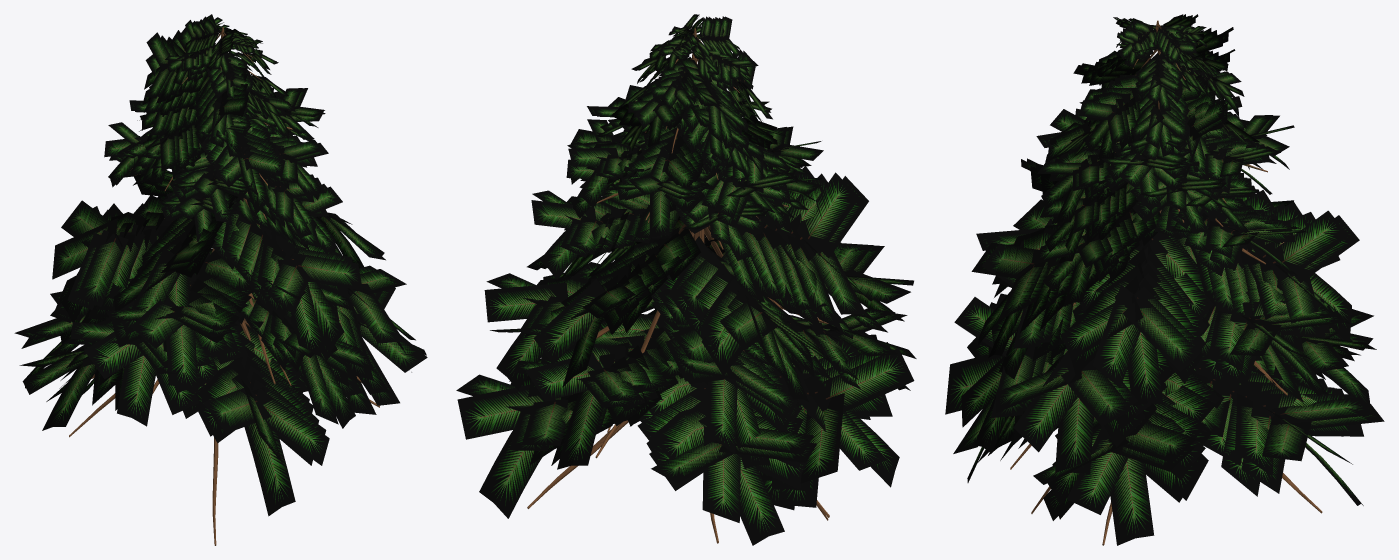
Rendered from PineTree-1.fbx.
3 renders of one model, left to right at view 1: azimuth 30°, elevation 25°; view 2: azimuth 150°, elevation 25°; view 3: azimuth 270°, elevation 25°, orthographic. The views are drawn at different scales.
Parts seen in each view (by area): view 1: Plane.059, Plane.046, Plane.195, Plane.1039, Plane.139, Plane.246, Plane.052, Plane.152, Plane.1040, Plane.019, Plane.140, Plane.260 (+45 smaller); view 2: Plane.006, Plane.080, Plane.079, Plane.275, Plane.012, Plane.100, Plane.099, Plane.220, Plane.1019, Plane.180, Plane.120, Plane.097 (+61 smaller); view 3: Plane.039, Plane.160, Plane.040, Plane.240, Plane.215, Plane.159, Plane.226, Plane.146, Plane.239, Plane.077, Plane.232, Plane.035 (+71 smaller).
Part boxes in pixels (left/top/right/bottom): Plane.059: left=244, top=387, right=295, bottom=516; Plane.046: left=256, top=388, right=329, bottom=465; Plane.195: left=76, top=229, right=128, bottom=306; Plane.1039: left=117, top=355, right=156, bottom=426; Plane.139: left=166, top=324, right=198, bottom=393; Plane.246: left=293, top=252, right=362, bottom=290; Plane.052: left=203, top=386, right=271, bottom=433; Plane.152: left=347, top=283, right=404, bottom=343; Plane.1040: left=84, top=331, right=142, bottom=379; Plane.019: left=42, top=364, right=97, bottom=430; Plane.140: left=130, top=297, right=183, bottom=348; Plane.260: left=277, top=259, right=324, bottom=353; Plane.006: left=815, top=348, right=914, bottom=412; Plane.080: left=457, top=384, right=554, bottom=439; Plane.079: left=479, top=399, right=555, bottom=518; Plane.275: left=796, top=172, right=859, bottom=254; Plane.012: left=800, top=393, right=844, bottom=483; Plane.100: left=702, top=427, right=740, bottom=522; Plane.099: left=740, top=458, right=784, bottom=545; Plane.220: left=533, top=279, right=605, bottom=364; Plane.1019: left=557, top=367, right=616, bottom=469; Plane.180: left=484, top=282, right=567, bottom=322; Plane.120: left=706, top=379, right=737, bottom=454; Plane.097: left=651, top=403, right=707, bottom=460; Plane.039: left=1110, top=458, right=1154, bottom=545; Plane.160: left=1013, top=350, right=1077, bottom=452; Plane.040: left=1067, top=426, right=1128, bottom=514; Plane.240: left=1092, top=284, right=1140, bottom=387; Plane.215: left=1270, top=210, right=1348, bottom=278; Plane.159: left=1055, top=397, right=1093, bottom=473; Plane.226: left=1122, top=294, right=1199, bottom=371; Plane.146: left=1061, top=359, right=1132, bottom=426; Plane.239: left=1127, top=294, right=1163, bottom=406; Plane.077: left=1235, top=393, right=1273, bottom=476; Plane.232: left=1061, top=292, right=1143, bottom=359; Plane.035: left=1107, top=422, right=1196, bottom=462.
Size of the model in its own units: 13093 by 16198 by 12105.
